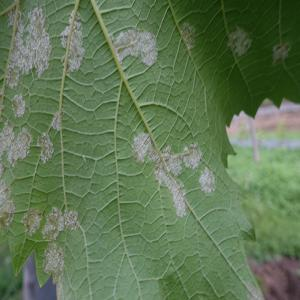Folha: (0, 0, 298, 298)
Fungo: (0, 6, 85, 278), (131, 131, 216, 219), (5, 6, 51, 87), (112, 26, 158, 67), (60, 9, 85, 74), (6, 127, 32, 167), (227, 25, 253, 57), (41, 205, 64, 240), (138, 28, 158, 66), (0, 179, 15, 228), (131, 132, 153, 163), (43, 241, 63, 274), (21, 208, 42, 236), (182, 141, 202, 170), (36, 132, 54, 164), (271, 39, 291, 66), (0, 119, 14, 157), (198, 166, 216, 195), (180, 22, 196, 50), (11, 92, 25, 118), (63, 209, 79, 231), (50, 110, 64, 132), (5, 66, 19, 88)
